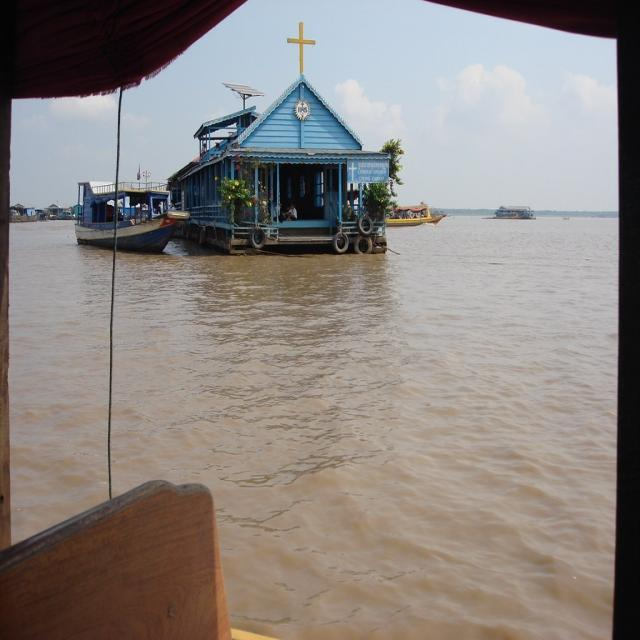boat: (166, 92, 418, 256), (62, 175, 190, 253), (383, 198, 452, 228), (485, 200, 545, 225)
